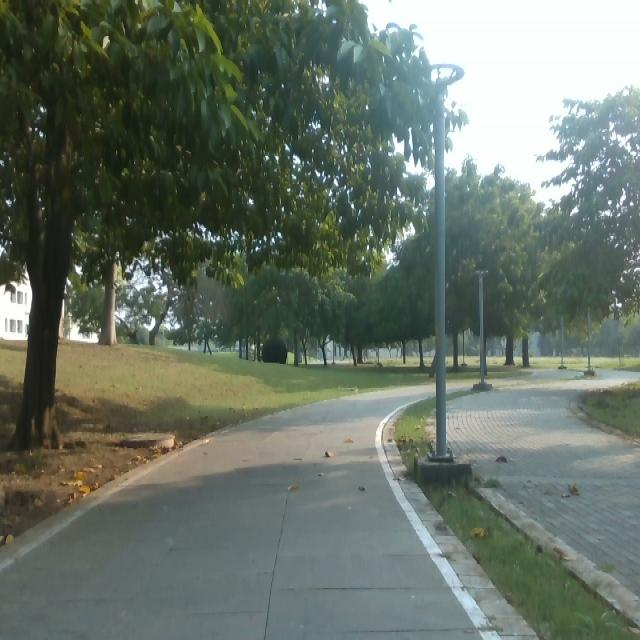lane: (4, 383, 496, 637)
